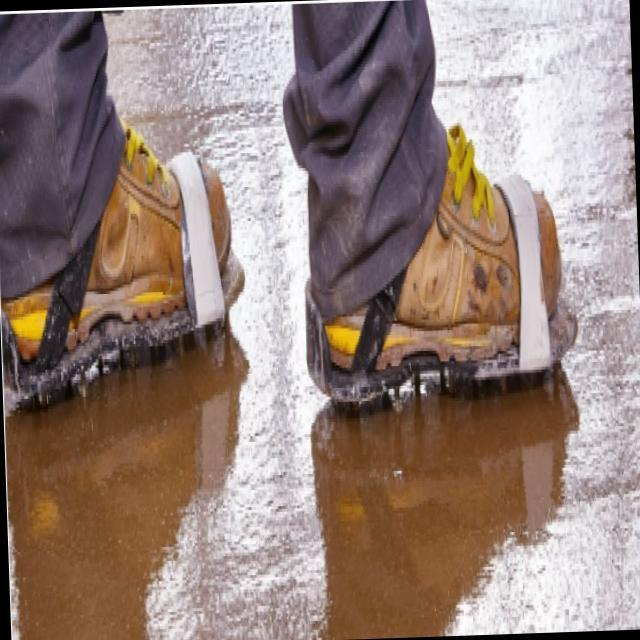shoes: (0, 25, 583, 422)
